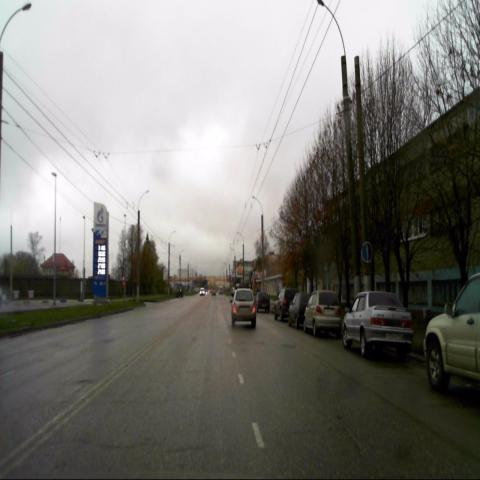4_1_1: (361, 241, 372, 263)
